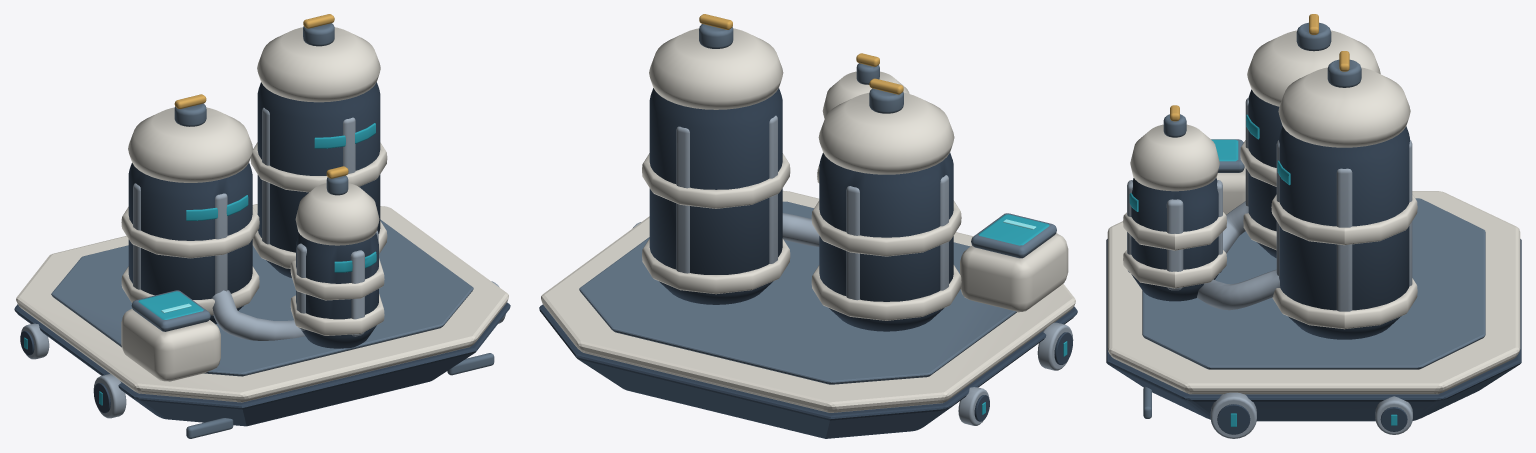
Rendered from heavy_element_refinery_lv2.glb.
The picture shows the model from 3 angles, left to right: view 1: azimuth 30°, elevation 25°; view 2: azimuth 150°, elevation 25°; view 3: azimuth 270°, elevation 25°; orthographic projection. The views are drawn at different scales.
Parts seen in each view (by area): view 1: Structure; view 2: Structure; view 3: Structure.
Boxes of the visible parts, x1,y1,x2,y2 form: Structure: (14, 14, 510, 438); Structure: (539, 14, 1077, 438); Structure: (1106, 14, 1521, 438).
Size of the model in its own units: 6.77 by 4.95 by 5.71.
